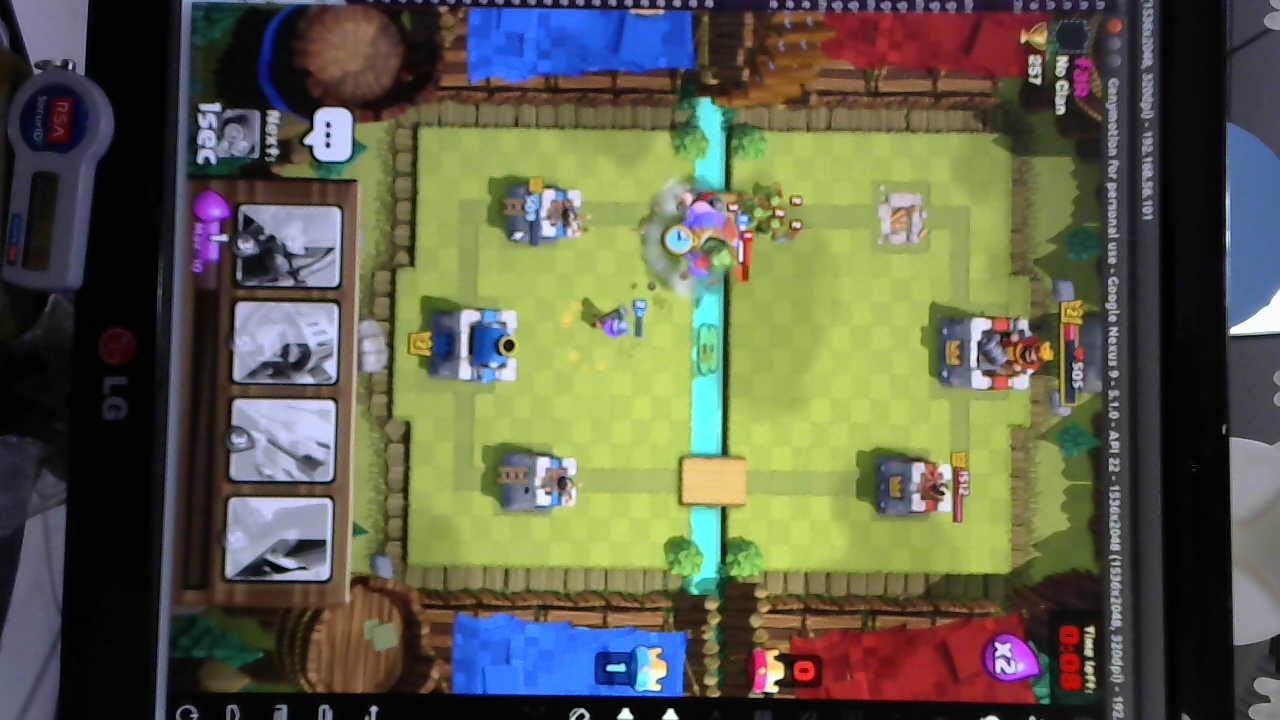arena: (499, 451, 582, 514), (510, 184, 588, 245)
darena: (871, 182, 930, 251)
dragon: (696, 223, 745, 282)
earena: (880, 453, 958, 521)
eking: (935, 304, 1043, 393)
king: (430, 301, 525, 387)
knight: (681, 186, 729, 217)
musketeer: (590, 303, 634, 341)
speargoblins: (737, 179, 806, 245)
